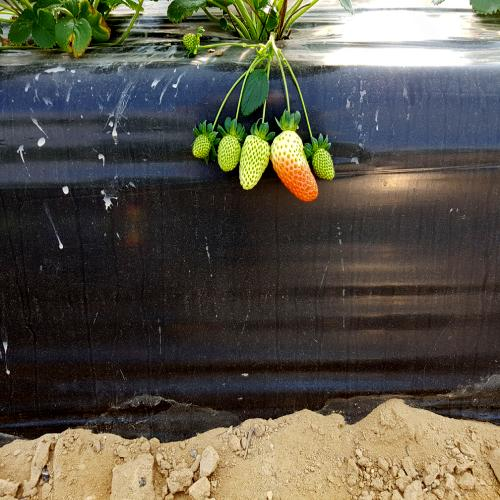unripe: (236, 121, 270, 194), (216, 130, 239, 181), (195, 129, 211, 163)
